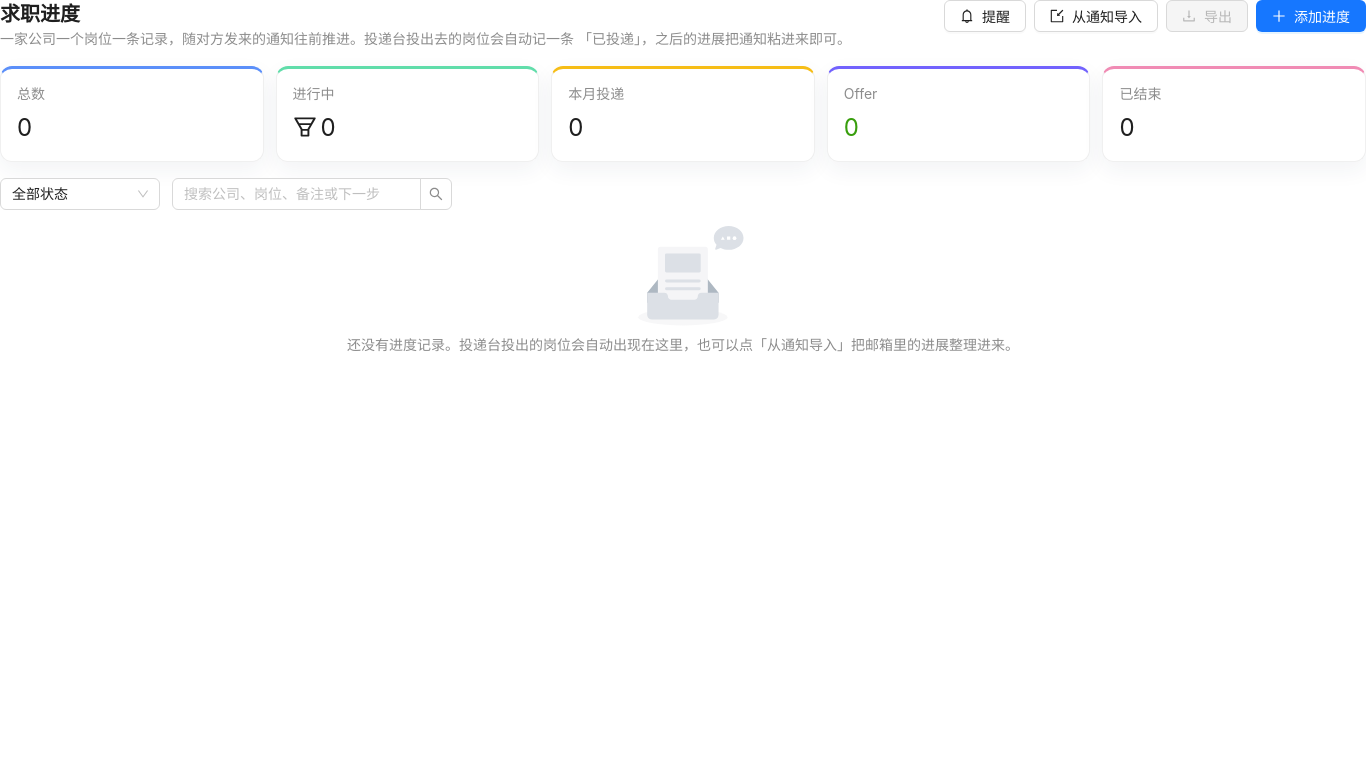
it: TrackImportModal › reports created and updated separately instead of a flat success
Check: the text "还没有进度记录。投递台投出的岗位会自动出现在这里，也可以点「从通知导入」把邮箱里的进展整理进来。" is shown, box [347,336,1019,353]
Click the button "从通知导入" at (1096,16), box [1034,0,1158,32]
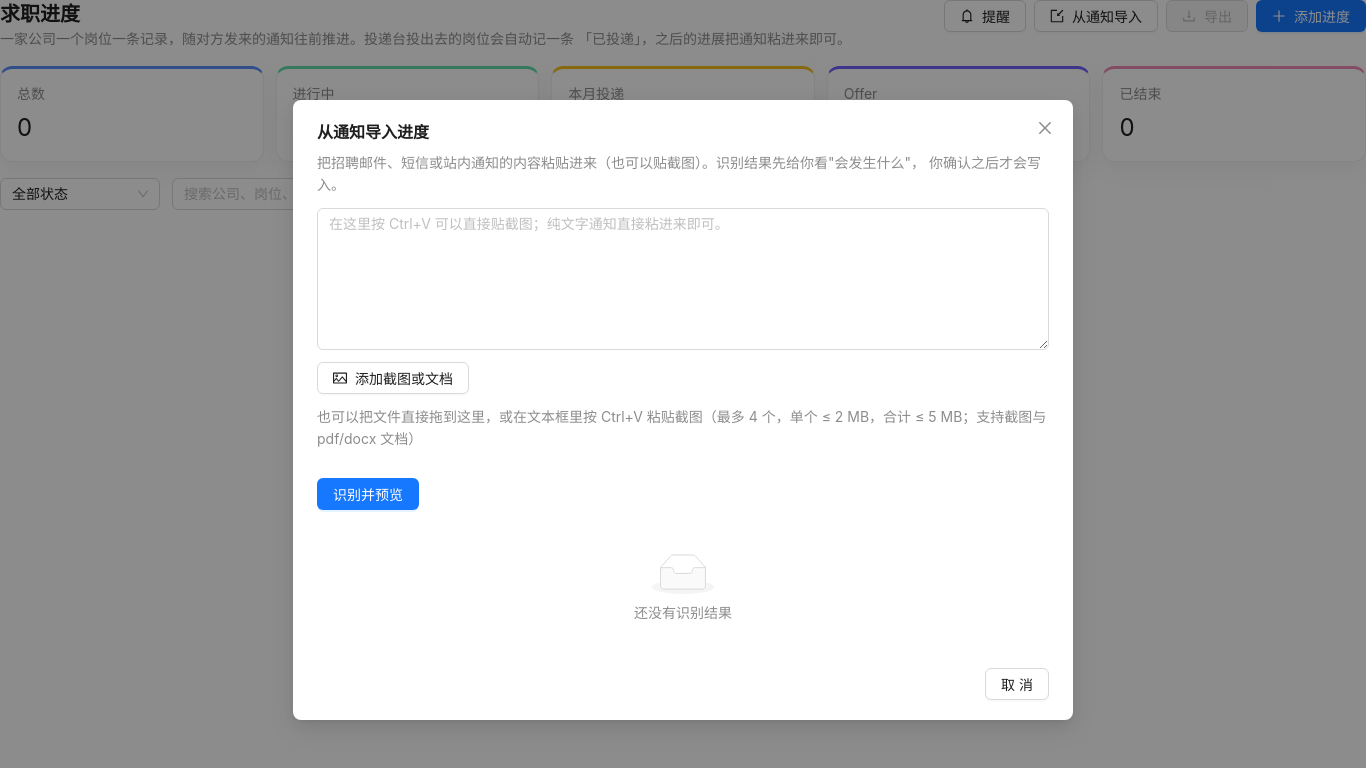
Type "【示例科技有限公司】您投递的「后端开发实习生」岗位已进入面试环节。" into the text box with placeholder "在这里按 Ctrl+V 可以直接贴截图；纯文字通知直接粘进来即可。" at (683,279), box [317,208,1049,350]
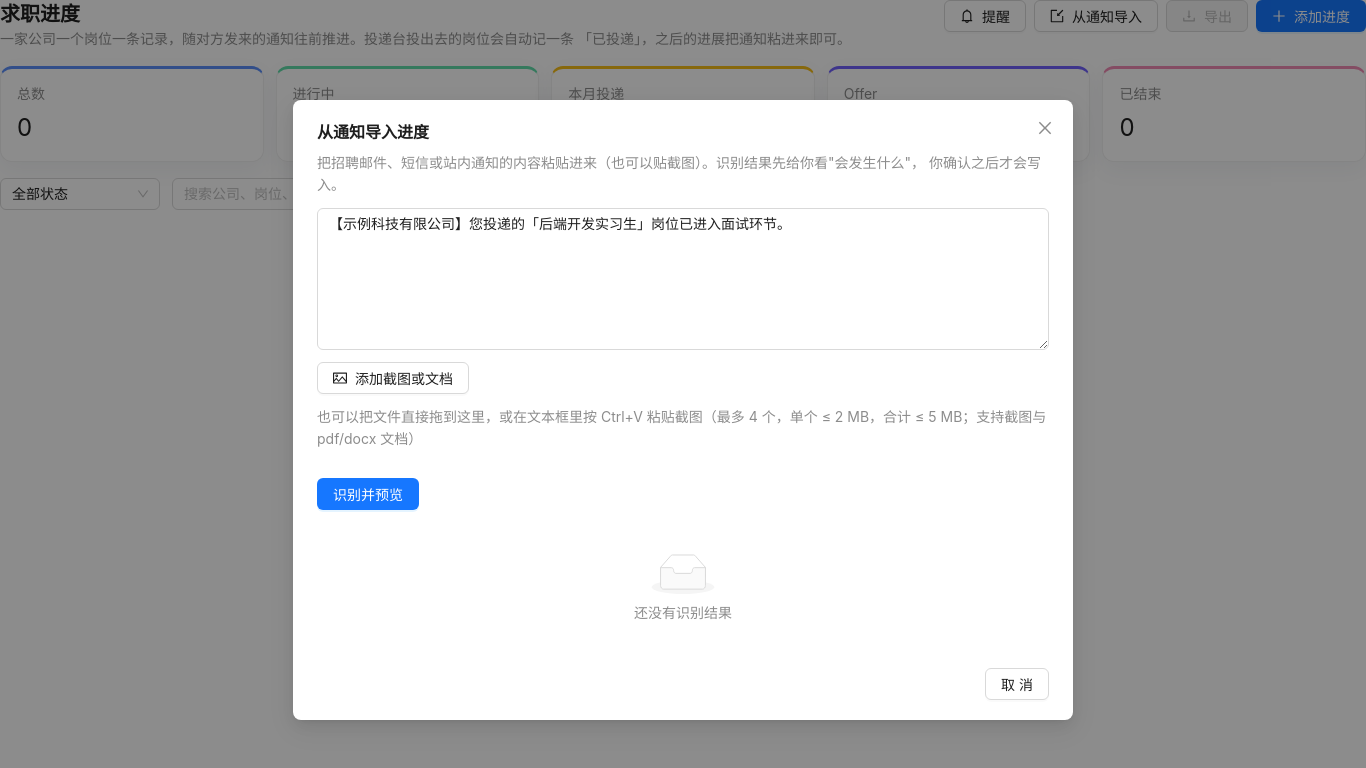
Click the button "识别并预览" at (368,494), box [317,478,419,510]
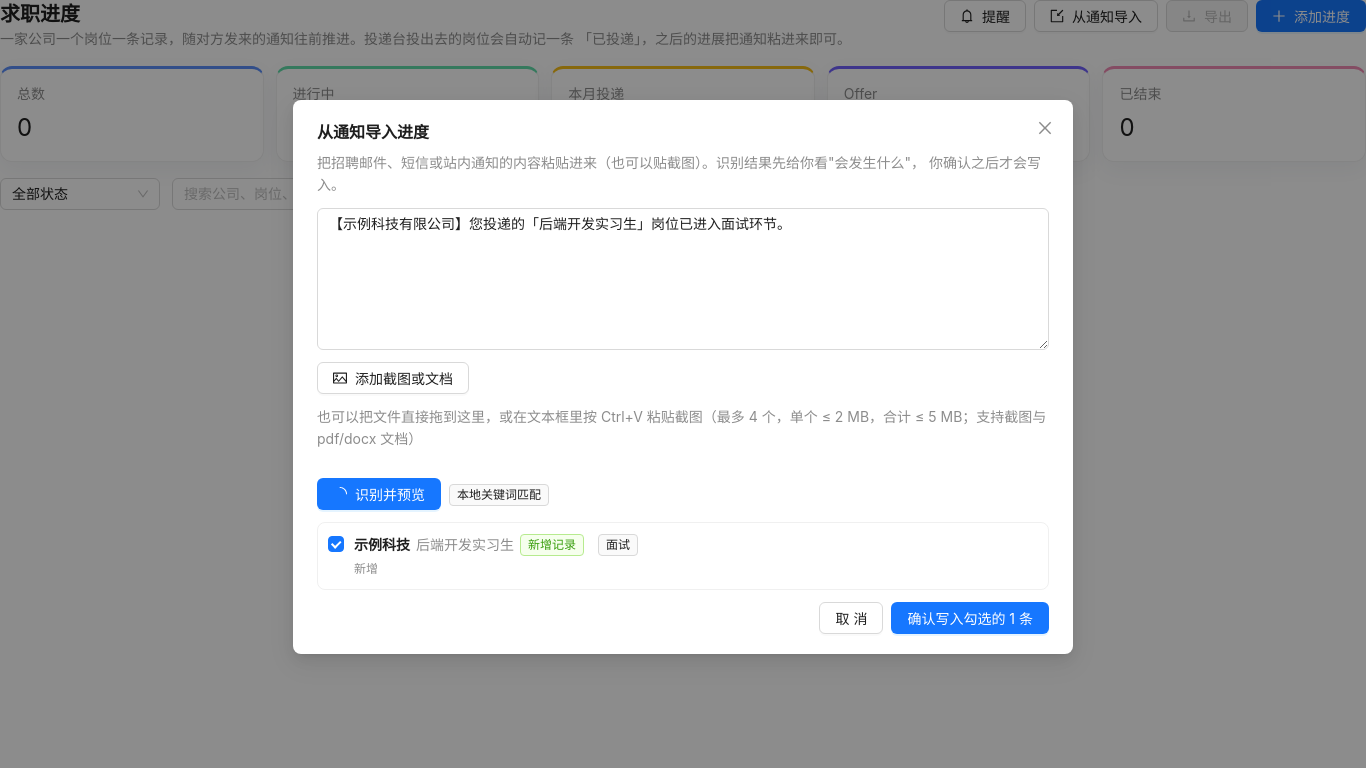
Check: the text "新增记录" is shown, box [520,534,584,556]
Click the button "确认写入勾选的 1 条" at (970,618), box [891,602,1049,634]
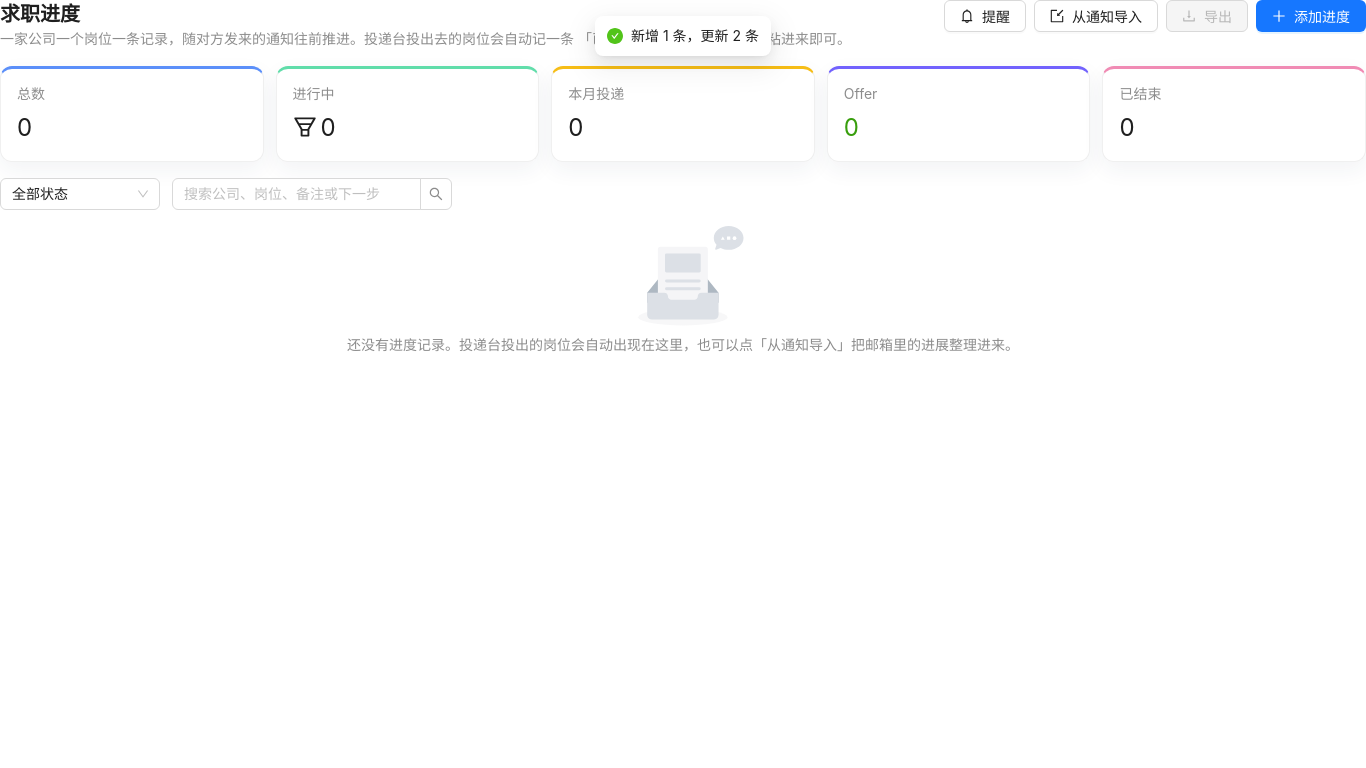
Check: the text "新增 1 条，更新 2 条" is shown, box [631,25,759,47]
